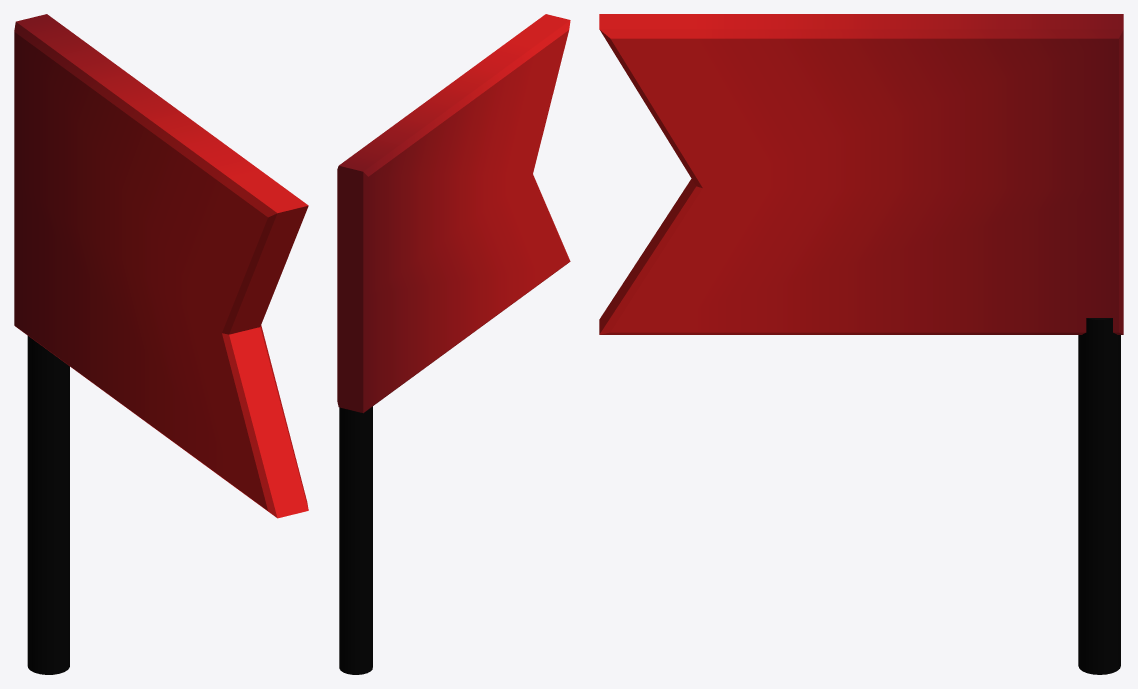
The model's file is Flag.fbx.
3 renders of one model, left to right at view 1: azimuth 30°, elevation 25°; view 2: azimuth 150°, elevation 25°; view 3: azimuth 270°, elevation 25°, orthographic. The views are drawn at different scales.
Visible parts, largest first — view 1: polySurface1; view 2: polySurface1; view 3: polySurface1.
Boxes of the visible parts, x1=… form: polySurface1: x1=14, y1=14, x2=308, y2=674; polySurface1: x1=337, y1=14, x2=570, y2=674; polySurface1: x1=599, y1=14, x2=1123, y2=674.
Size of the model in its own units: 0.1495 by 2.11 by 1.56.
1 material, 1 textured.
